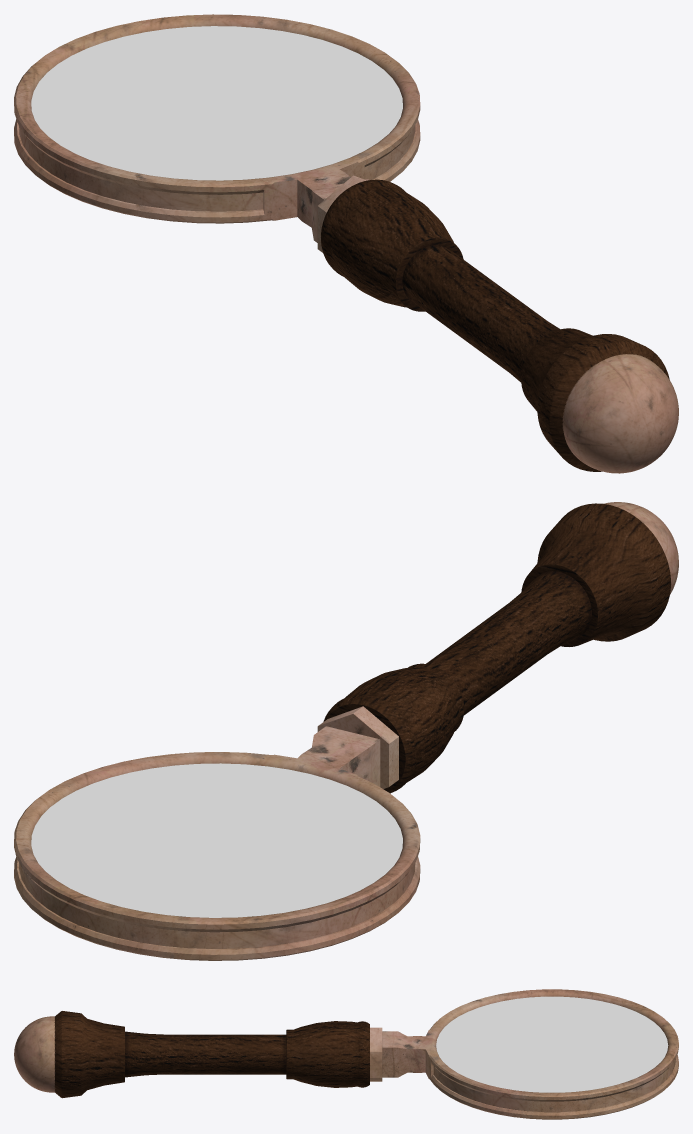
Rendered from Magnifier-Fin.fbx.
The picture shows the model from 3 angles, top to bottom: view 1: azimuth 30°, elevation 25°; view 2: azimuth 150°, elevation 25°; view 3: azimuth 270°, elevation 25°; orthographic projection. The views are drawn at different scales.
Visible parts, largest first — view 1: Magnifier, Glas; view 2: Magnifier, Glas; view 3: Magnifier, Glas.
Boxes of the visible parts, bbox=[...] form: Magnifier: bbox=[14, 14, 678, 473]; Glas: bbox=[31, 26, 402, 180]; Magnifier: bbox=[14, 502, 678, 960]; Glas: bbox=[31, 763, 402, 917]; Magnifier: bbox=[14, 989, 678, 1119]; Glas: bbox=[436, 996, 668, 1092].
Bounding box in the file's own units: 7.47 × 2.59 × 19.63.
